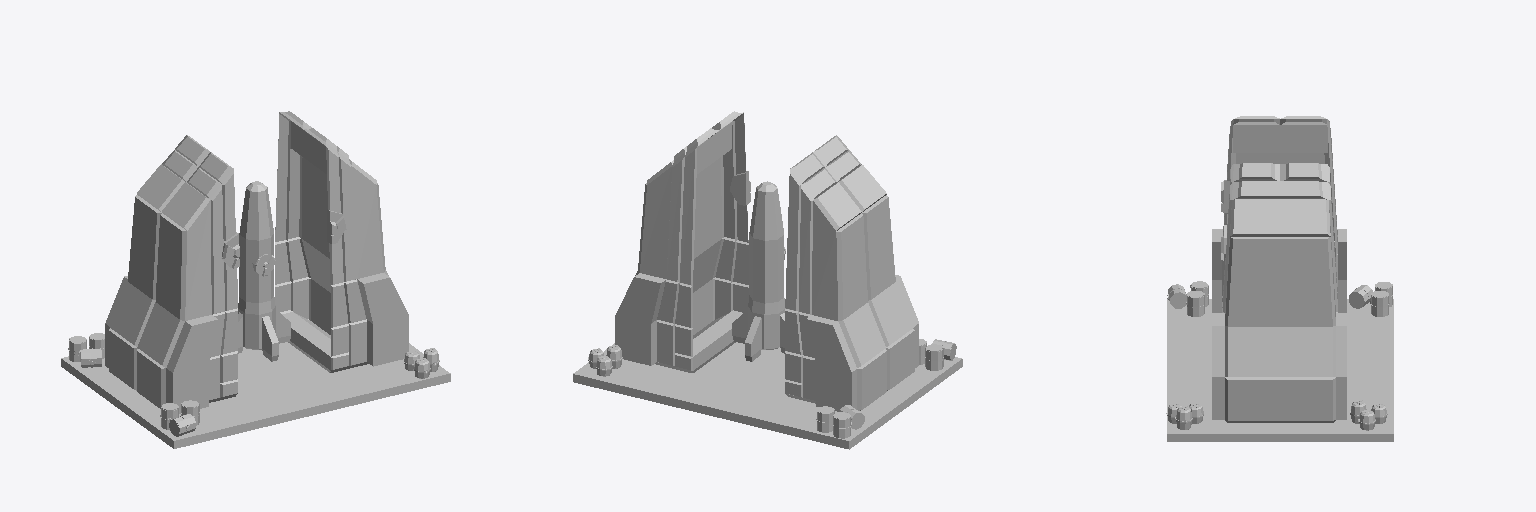
The model's file is nuke_missile.obj.
3 renders of one model, left to right at view 1: azimuth 30°, elevation 25°; view 2: azimuth 150°, elevation 25°; view 3: azimuth 270°, elevation 25°, orthographic.
Parts seen in each view (by area): view 1: Cube.001_Cube.002, Cube.003_Cube.004, Cube.002_Cube.003, Cylinder; view 2: Cube.001_Cube.002, Cube.003_Cube.004, Cube.002_Cube.003, Cylinder; view 3: Cube.003_Cube.004, Cube.002_Cube.003, Cube.001_Cube.002.
Boxes of the visible parts, <box> form: Cube.001_Cube.002: <box>105,135,239,413</box>; Cube.003_Cube.004: <box>275,111,408,372</box>; Cube.002_Cube.003: <box>61,342,450,448</box>; Cylinder: <box>238,181,290,361</box>; Cube.001_Cube.002: <box>785,135,918,411</box>; Cube.003_Cube.004: <box>615,111,750,372</box>; Cube.002_Cube.003: <box>573,342,962,449</box>; Cylinder: <box>732,181,785,361</box>; Cube.003_Cube.004: <box>1212,163,1346,422</box>; Cube.002_Cube.003: <box>1167,299,1393,441</box>; Cube.001_Cube.002: <box>1212,116,1346,312</box>.
Size of the model in its own units: 16.8 by 13.74 by 11.95.